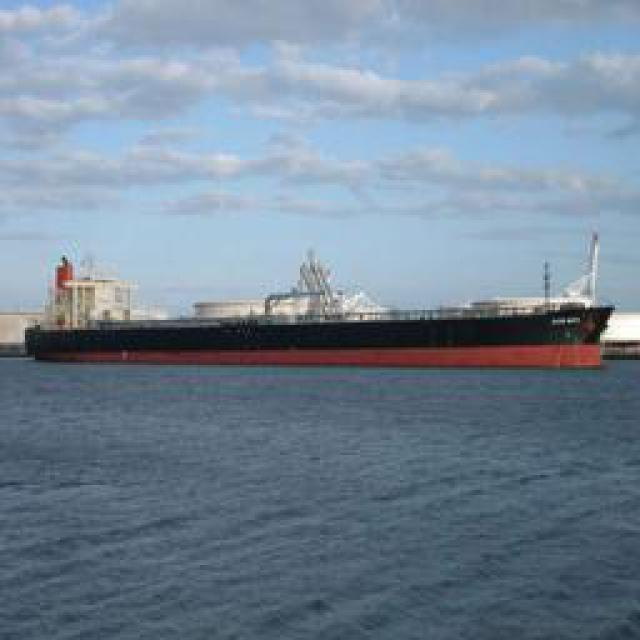Ship: (31, 244, 621, 364)
